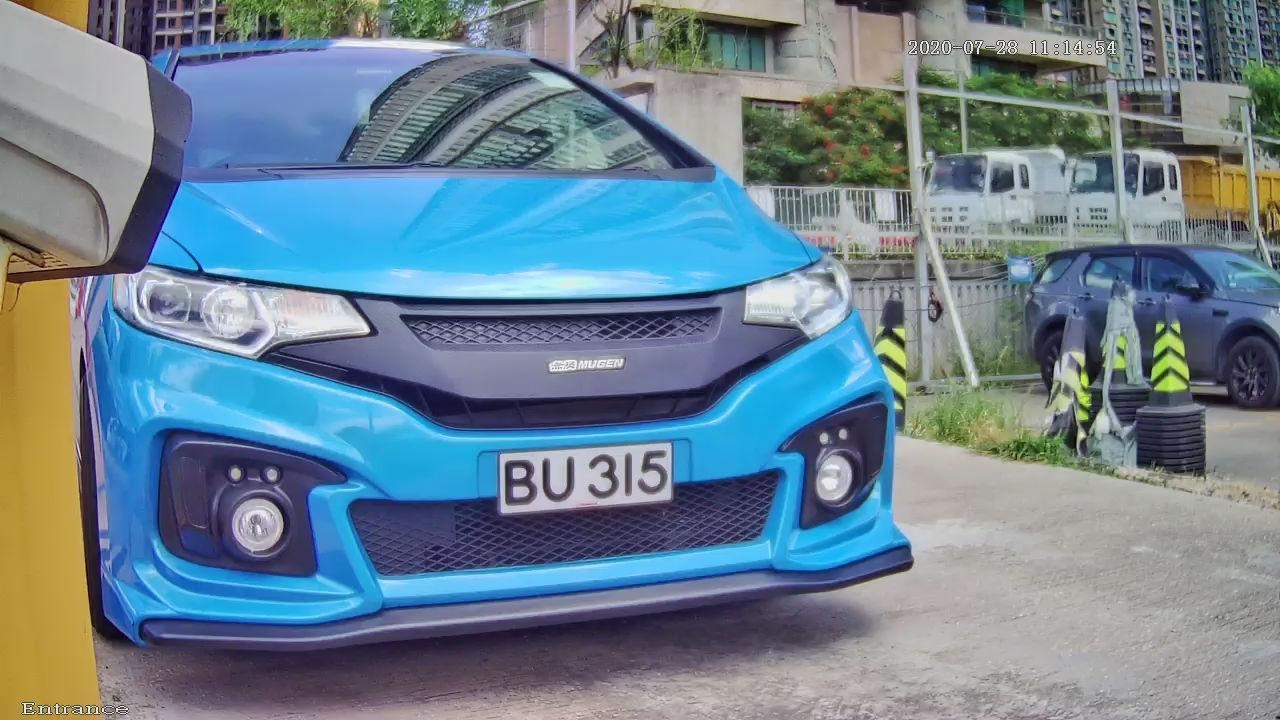privatecar: (6, 1, 1126, 695)
